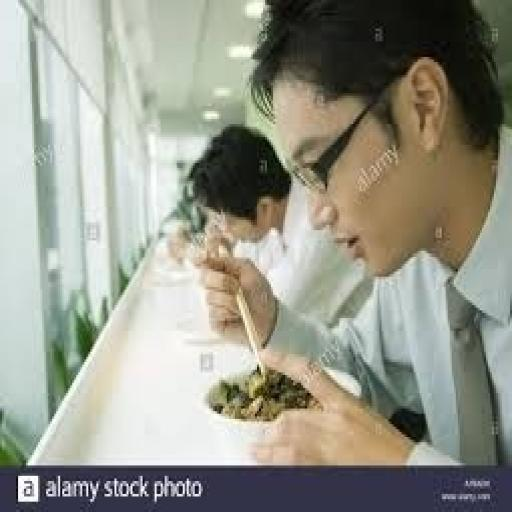eating: (195, 0, 510, 468)
